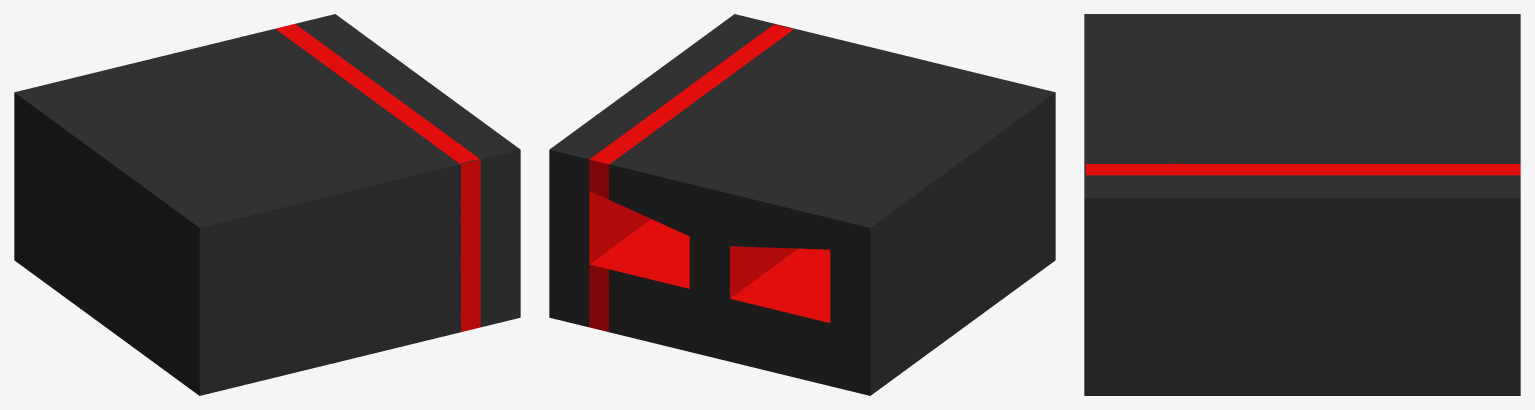
3 views of the same model, side by side, from view 1: azimuth 30°, elevation 25°; view 2: azimuth 150°, elevation 25°; view 3: azimuth 270°, elevation 25° (orthographic). The views are drawn at different scales.
Visible parts, largest first — view 1: cuboid; view 2: cuboid; view 3: cuboid.
Part boxes in pixels (x1=…): cuboid: x1=14, y1=14, x2=520, y2=395; cuboid: x1=549, y1=14, x2=1055, y2=395; cuboid: x1=1084, y1=14, x2=1520, y2=395.
Size of the model in its own units: 1 by 0.5 by 1.
1 material, 1 textured.
